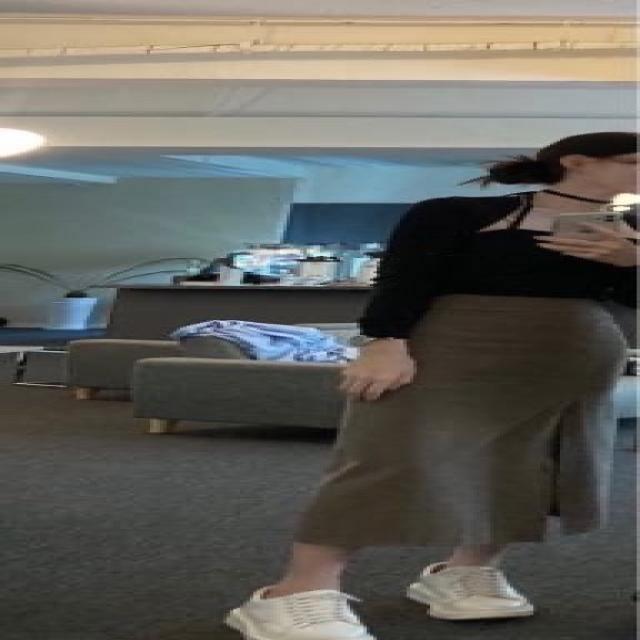cardigan: (342, 183, 640, 342)
skirt: (282, 284, 621, 548)
